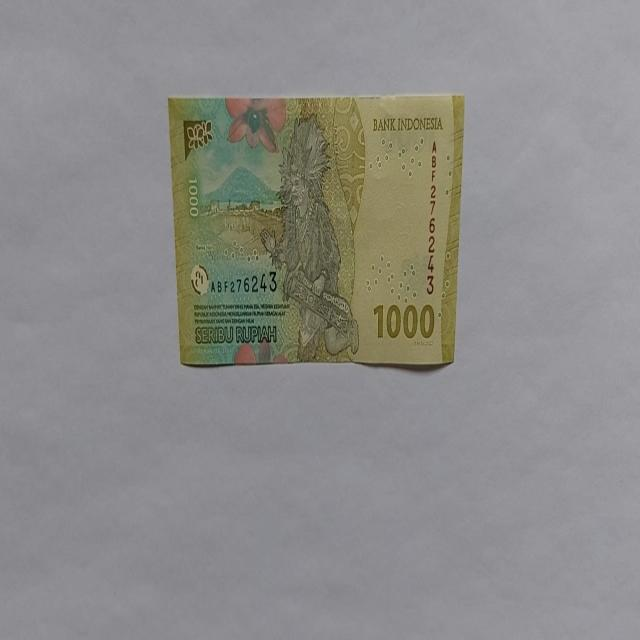seribu rupiah kertas: (167, 92, 465, 369)
